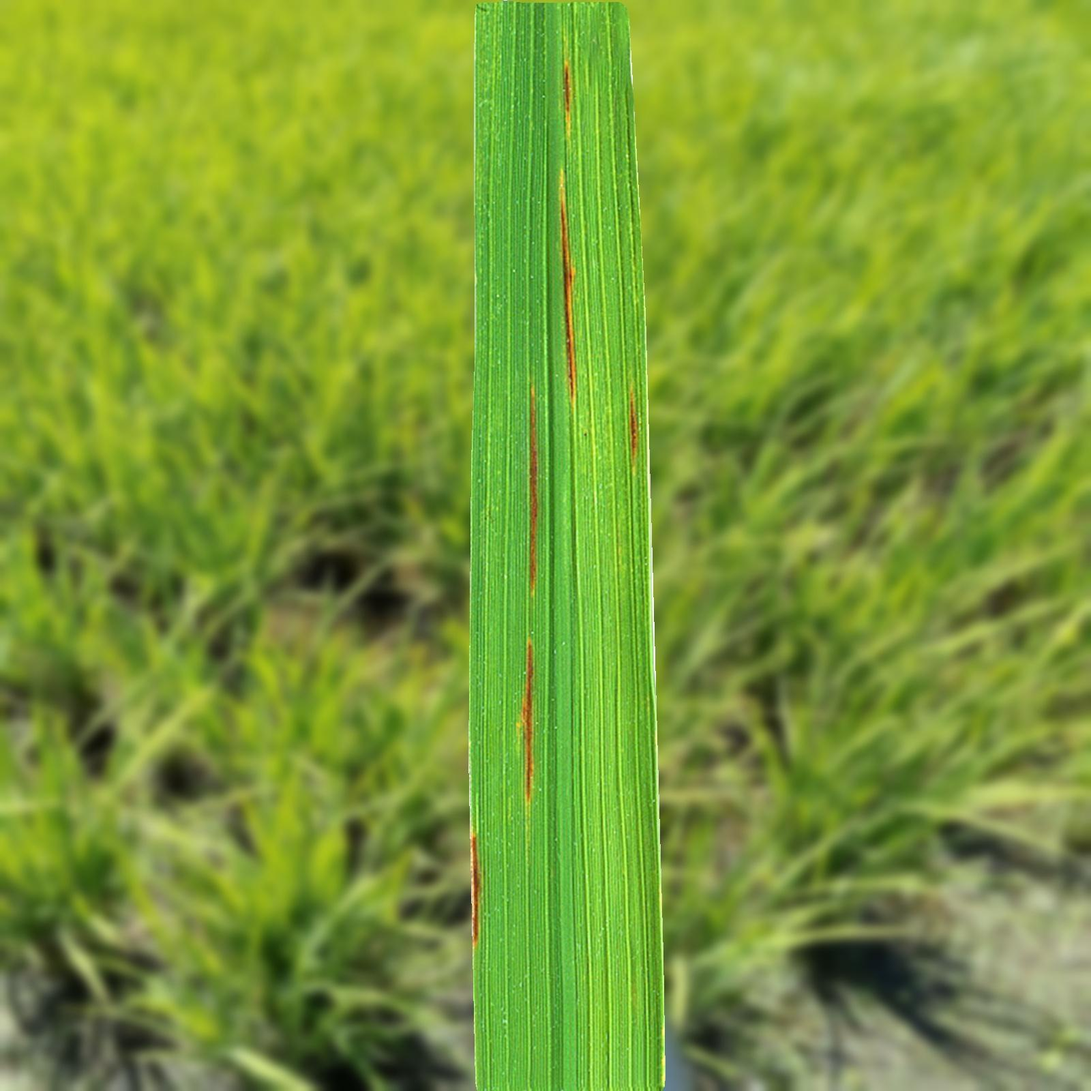LEAF: (468, 0, 665, 1090)
NBS: (560, 170, 577, 407), (521, 638, 533, 803), (529, 386, 537, 591), (472, 833, 481, 946), (629, 387, 638, 464), (563, 59, 571, 138), (564, 58, 571, 135), (531, 396, 535, 471)
